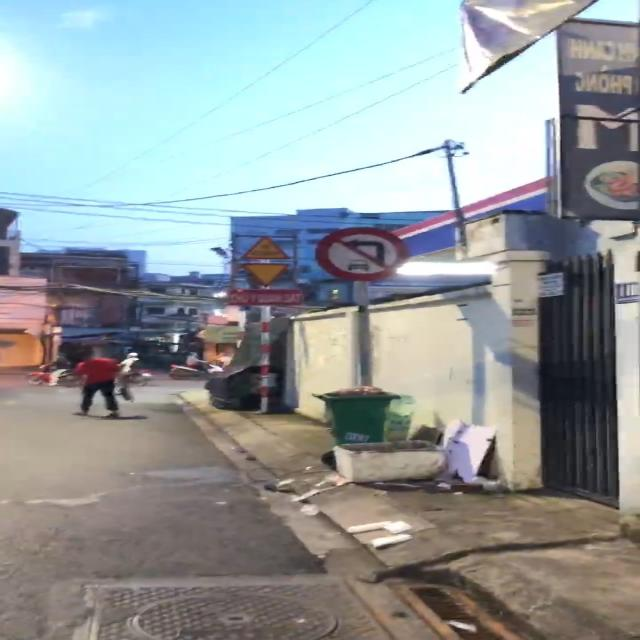Bien bao cam xe o to re trai: (314, 225, 414, 283)
Bien bao giao nhau voi duong uu tien: (241, 260, 293, 288)
